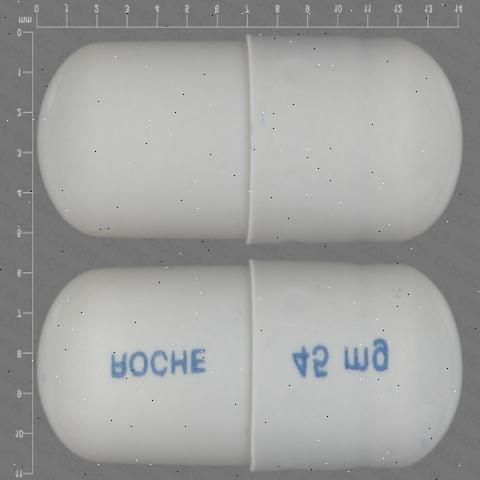Pill: (22, 14, 468, 266), (26, 254, 472, 474)
